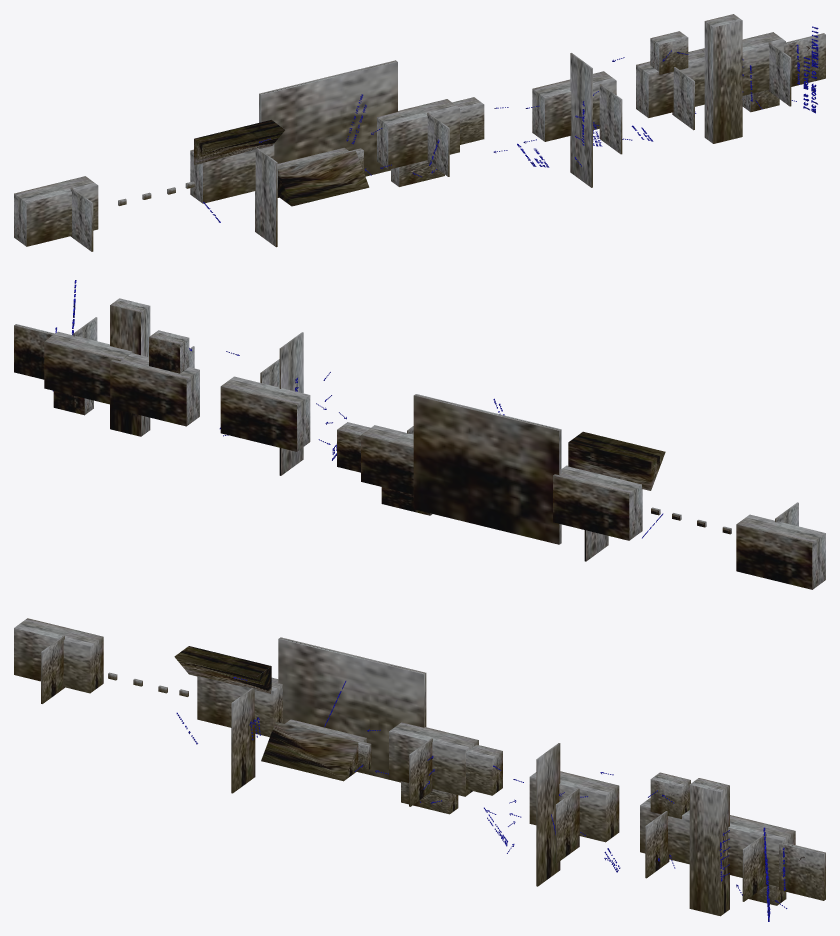
The model's file is tutorial.glb.
The picture shows the model from 3 angles, top to bottom: view 1: azimuth 30°, elevation 25°; view 2: azimuth 150°, elevation 25°; view 3: azimuth 330°, elevation 25°; orthographic projection. The views are drawn at different scales.
Visible parts, largest first — view 1: Cube.016, Cube.004, Cube.023, Cube.011, Cube.015, Cube.006, Cube.017, Cube.009, Cube.005, Cube.027, Cube.018, Cube.002 (+12 smaller); view 2: Cube.016, Cube.006, Cube.023, Cube.017, Cube.005, Cube.002, Cube.027, Cube.011, Cube.004, Cube.009, Cube, Cube.008 (+3 smaller); view 3: Cube.016, Cube.004, Cube.023, Cube.015, Cube.011, Cube.006, Cube.017, Cube.009, Cube.027, Cube.002, Cube, Cube.018 (+9 smaller).
Boxes of the visible parts, x1,y1,x2,y2 form: Cube.016: (259, 60, 397, 197); Cube.004: (704, 14, 742, 143); Cube.023: (14, 176, 98, 246); Cube.011: (377, 99, 459, 169); Cube.015: (278, 150, 369, 206); Cube.006: (532, 71, 616, 141); Cube.017: (190, 144, 274, 203); Cube.009: (570, 53, 592, 187); Cube.005: (636, 48, 704, 117); Cube.027: (194, 119, 285, 165); Cube.018: (255, 148, 277, 247); Cube.002: (702, 32, 785, 95); Cube.016: (413, 394, 561, 544); Cube.006: (220, 376, 310, 451); Cube.023: (736, 514, 825, 589); Cube.017: (553, 465, 642, 540); Cube.005: (110, 353, 199, 426); Cube.002: (44, 331, 132, 404); Cube.027: (568, 431, 665, 490); Cube.011: (361, 425, 413, 494); Cube.004: (110, 298, 150, 436); Cube.009: (279, 332, 303, 475); Cube: (14, 324, 54, 379); Cube.008: (149, 330, 189, 373); Cube.016: (278, 637, 426, 782); Cube.004: (689, 778, 729, 916); Cube.023: (14, 618, 103, 693); Cube.015: (261, 722, 358, 781); Cube.011: (389, 722, 478, 796); Cube.006: (529, 771, 619, 842); Cube.017: (197, 676, 282, 737); Cube.009: (536, 743, 560, 886); Cube.027: (174, 646, 271, 693); Cube.002: (728, 815, 795, 886); Cube: (779, 842, 825, 900); Cube.018: (231, 688, 255, 793).
Bounding box in the file's own units: 589 × 94.14 × 76.87.
30 materials, 30 textured.
